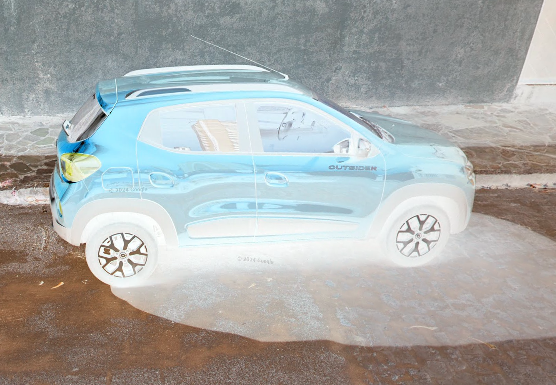car: (46, 30, 478, 293)
